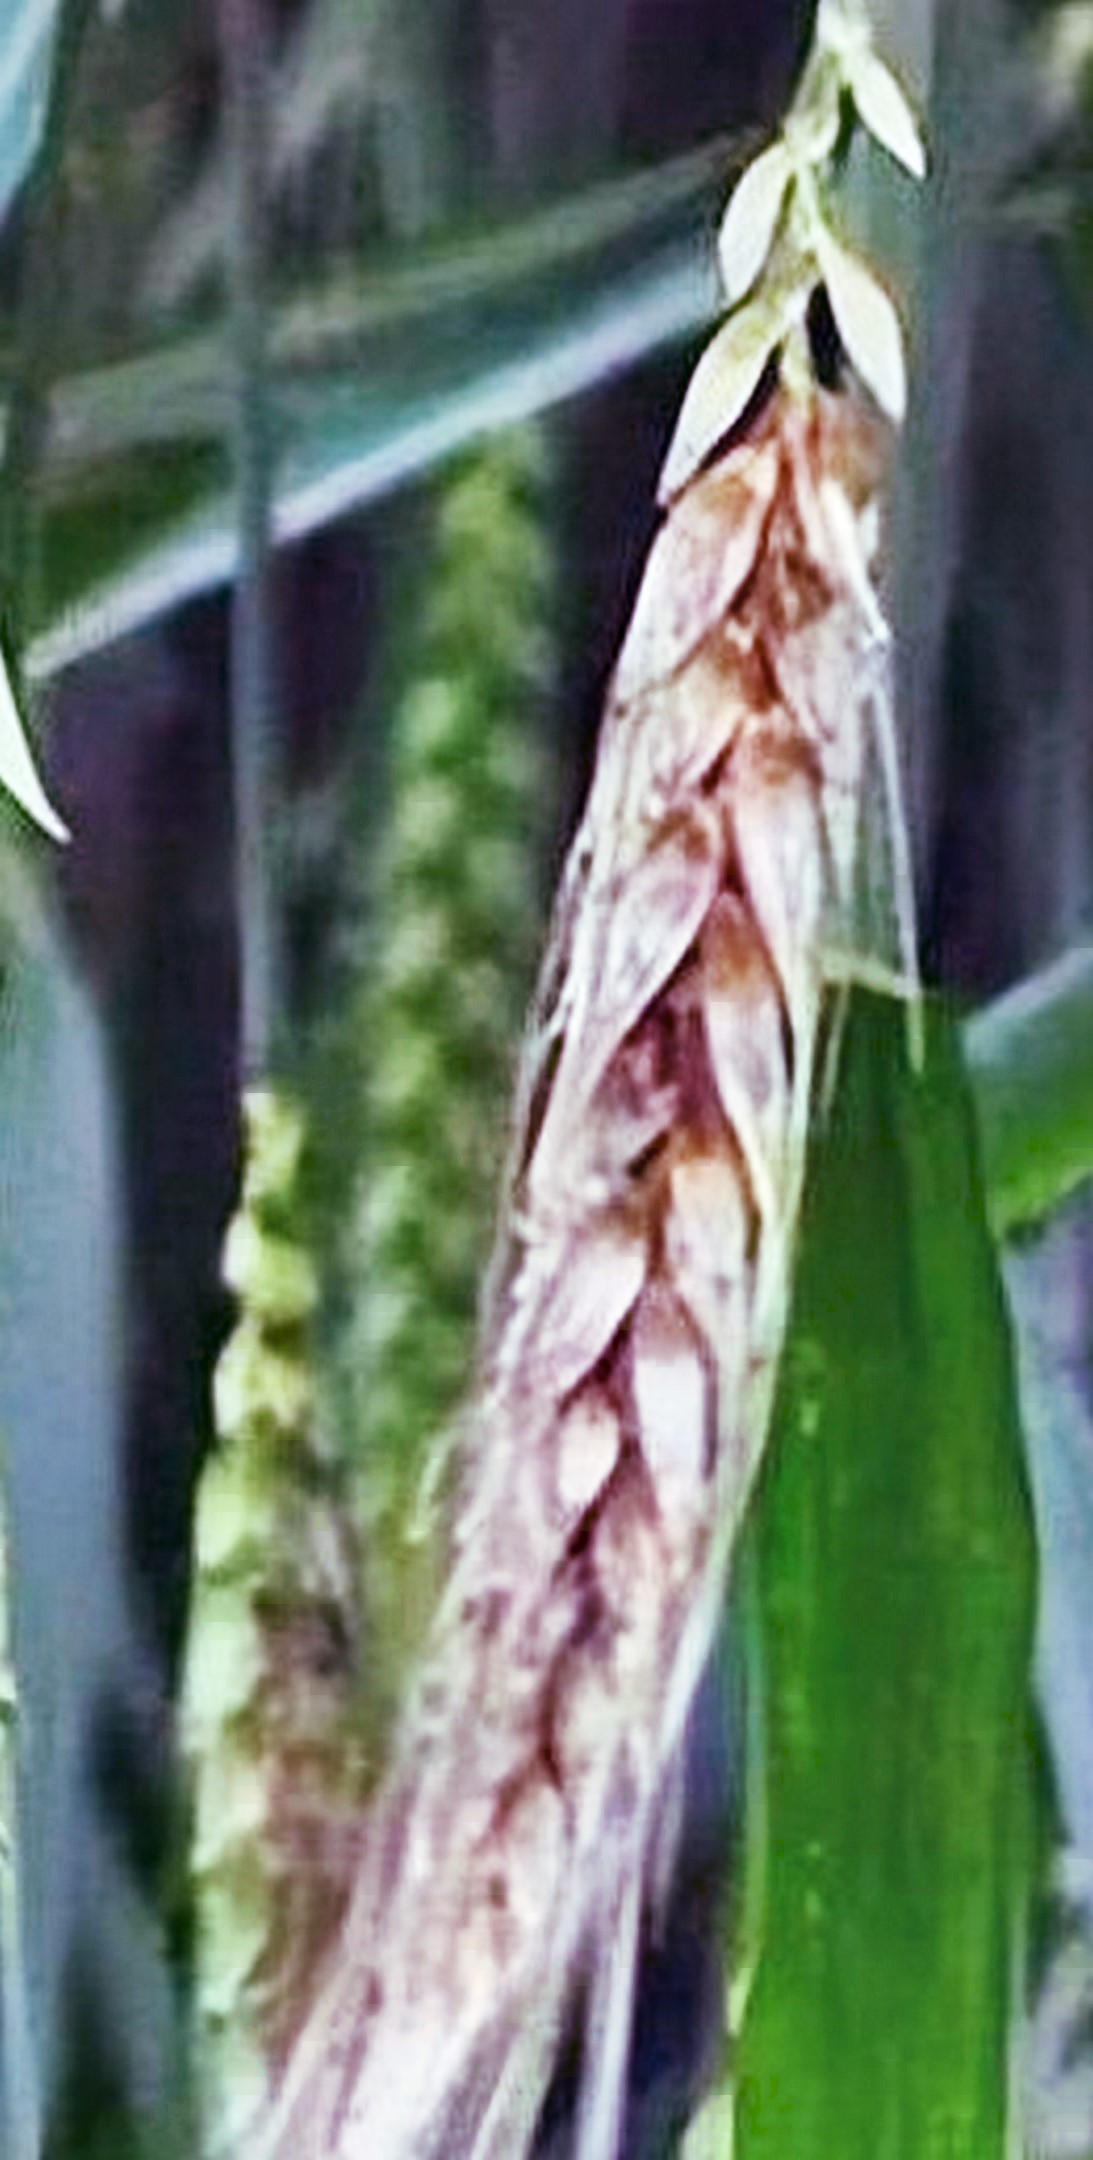Wheat scab: (390, 98, 980, 2033)
